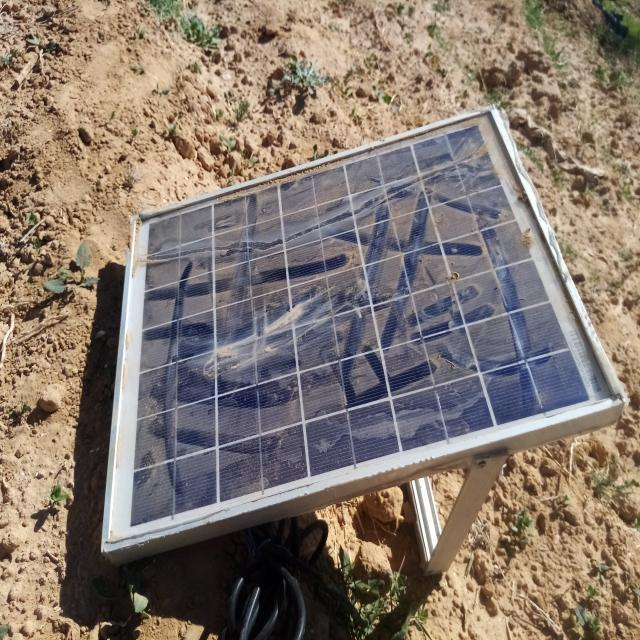faulty: (104, 107, 622, 546)
